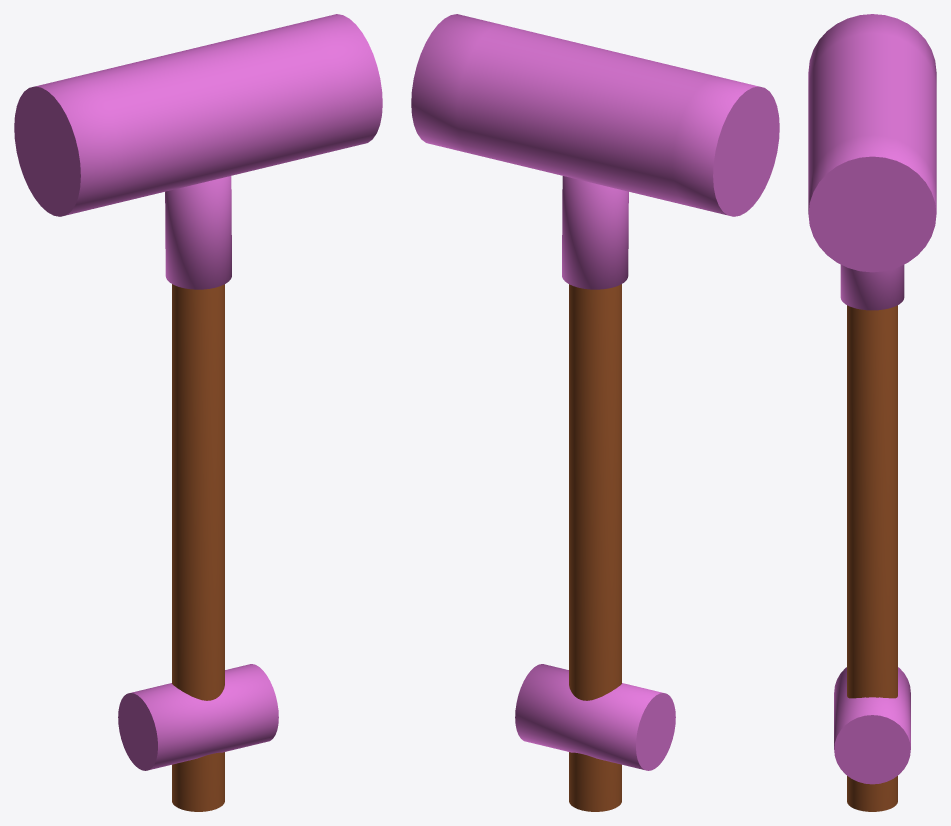
File: MACE.fbx
The picture shows the model from 3 angles, left to right: view 1: azimuth 30°, elevation 25°; view 2: azimuth 150°, elevation 25°; view 3: azimuth 270°, elevation 25°; orthographic projection. The views are drawn at different scales.
Visible parts, largest first — view 1: Cylinder.003, Cylinder.001, Cylinder, Cylinder.002; view 2: Cylinder.003, Cylinder.001, Cylinder, Cylinder.002; view 3: Cylinder.003, Cylinder.001, Cylinder, Cylinder.002.
Part boxes in pixels (box(x1,y1,x2,y2)): Cylinder.003: box(14, 14, 382, 216); Cylinder.001: box(172, 284, 224, 811); Cylinder: box(118, 664, 278, 770); Cylinder.002: box(165, 176, 231, 289); Cylinder.003: box(411, 14, 779, 216); Cylinder.001: box(569, 284, 621, 811); Cylinder: box(515, 664, 675, 770); Cylinder.002: box(562, 176, 628, 289); Cylinder.003: box(808, 14, 936, 272); Cylinder.001: box(847, 305, 897, 811); Cylinder: box(834, 667, 910, 784); Cylinder.002: box(840, 265, 904, 310).
Bounding box in the file's own units: 26.21 × 61.83 × 10.01.
